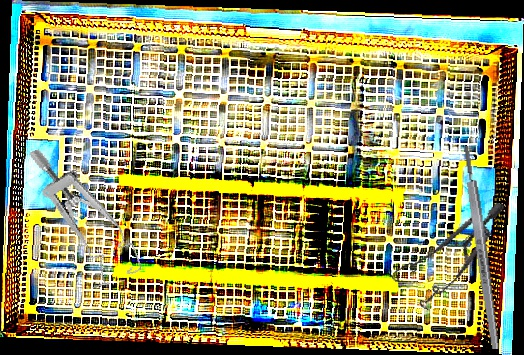Scalpel Handle: (460, 145, 502, 350)
Speculum: (26, 129, 145, 295), (383, 177, 506, 323)
